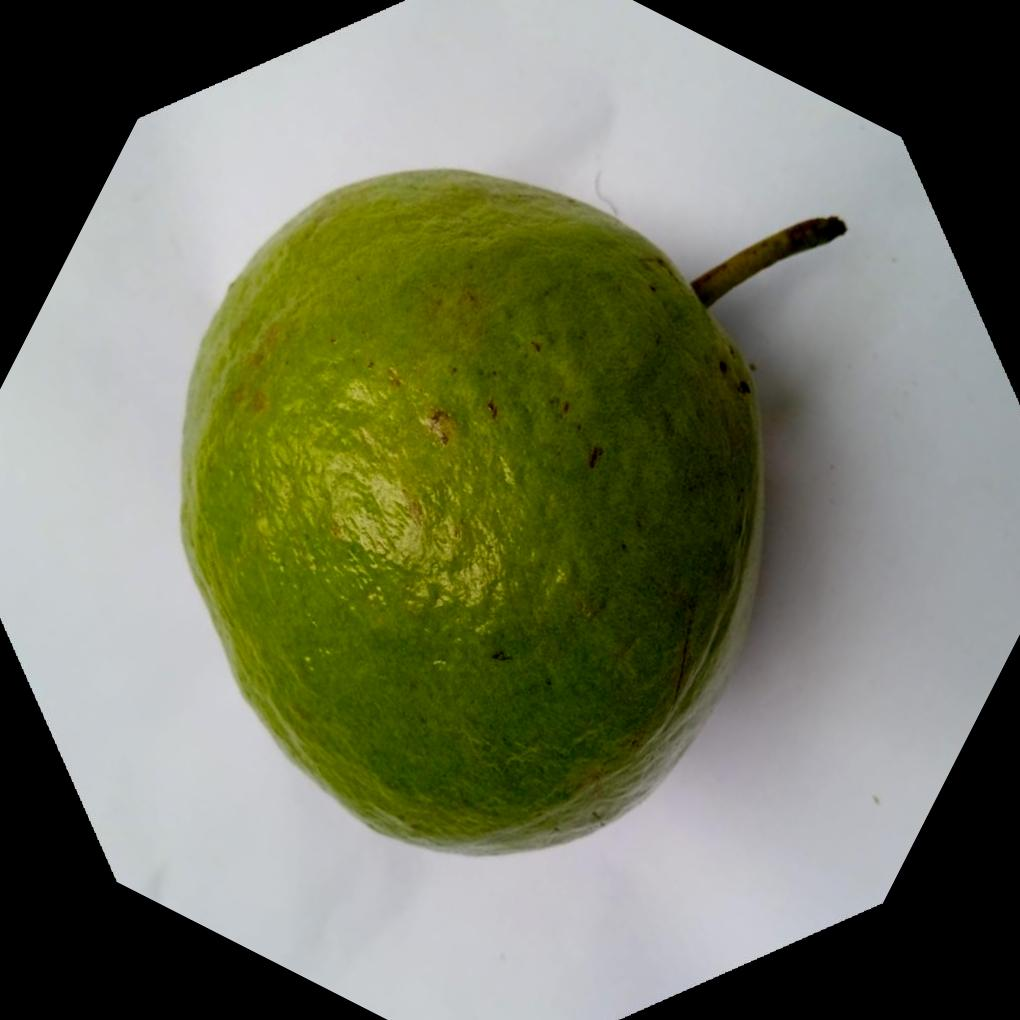FreshGuava: (174, 166, 765, 862)
